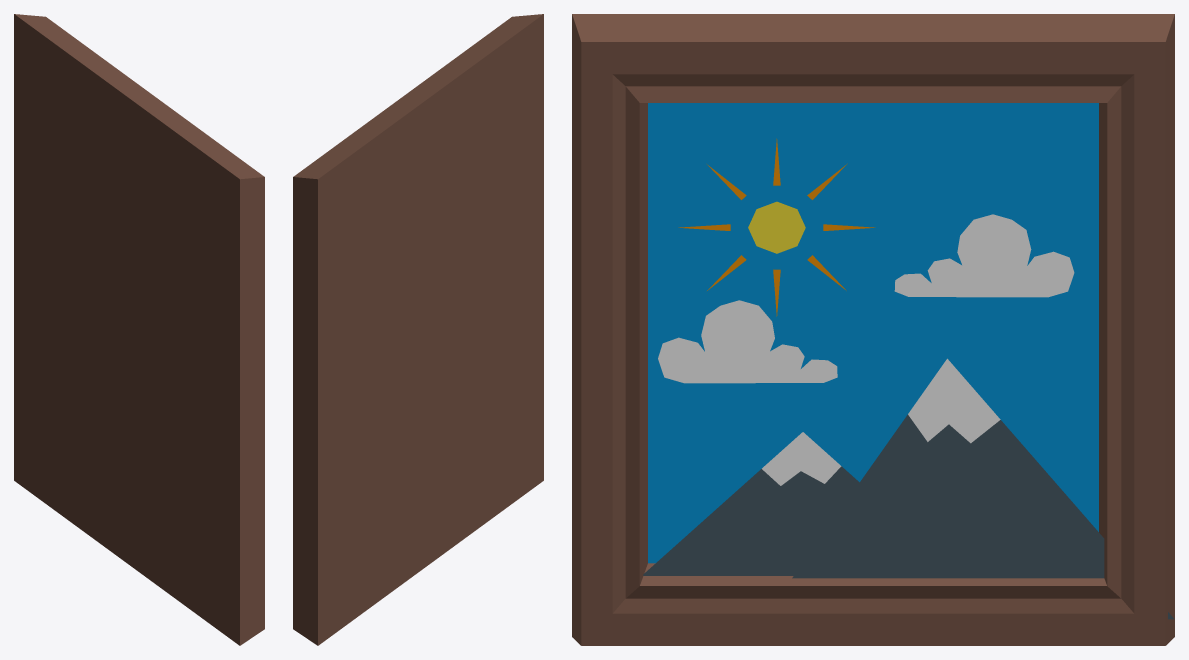
File: Wall painting by jeremy - 0CiZ4f1cZaF.glb
3 renders of one model, left to right at view 1: azimuth 30°, elevation 25°; view 2: azimuth 150°, elevation 25°; view 3: azimuth 270°, elevation 25°, orthographic. The views are drawn at different scales.
Parts seen in each view (by area): view 1: Wall_Painting_01_Plane.002; view 2: Wall_Painting_01_Plane.002; view 3: Wall_Painting_01_Plane.002.
Part boxes in pixels (x1,y1,x2,y2): Wall_Painting_01_Plane.002: (14, 14, 264, 645); Wall_Painting_01_Plane.002: (293, 14, 543, 645); Wall_Painting_01_Plane.002: (572, 14, 1174, 645).
Bounding box in the file's own units: 0.6554 × 10.04 × 8.8.
